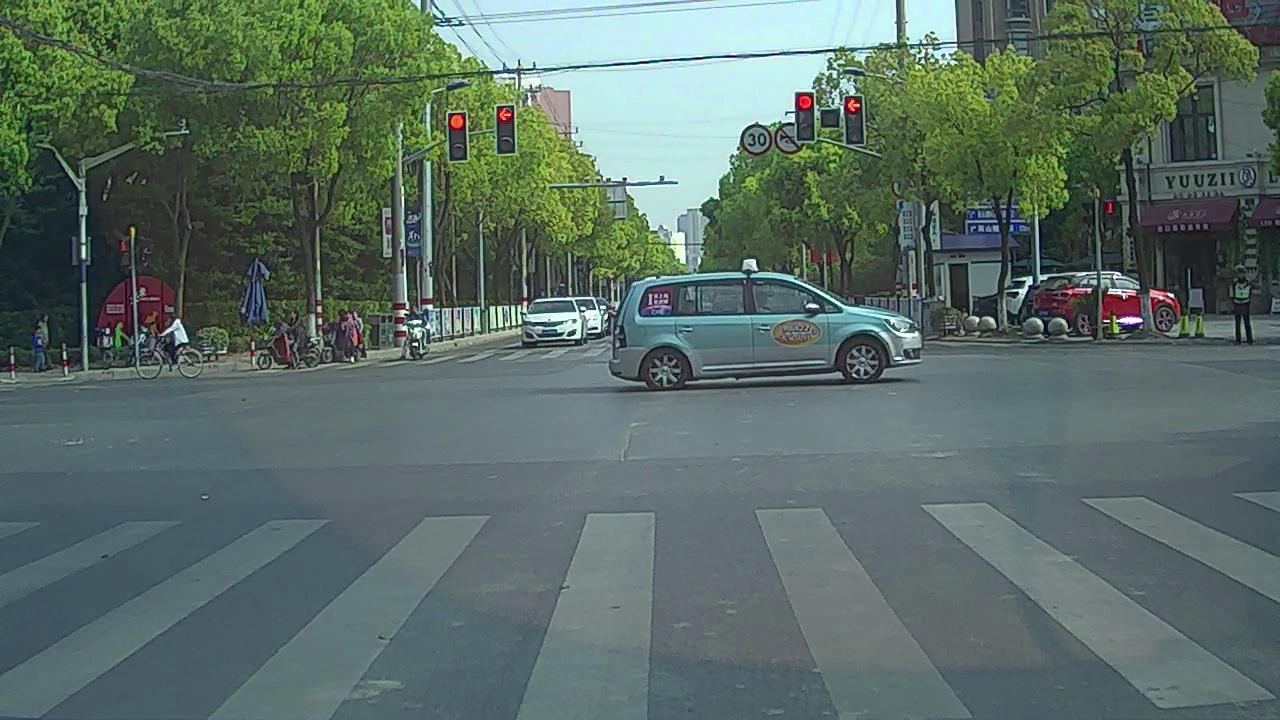traffic_light: (844, 97, 865, 145), (796, 92, 816, 142), (447, 113, 467, 160), (497, 105, 515, 155)
